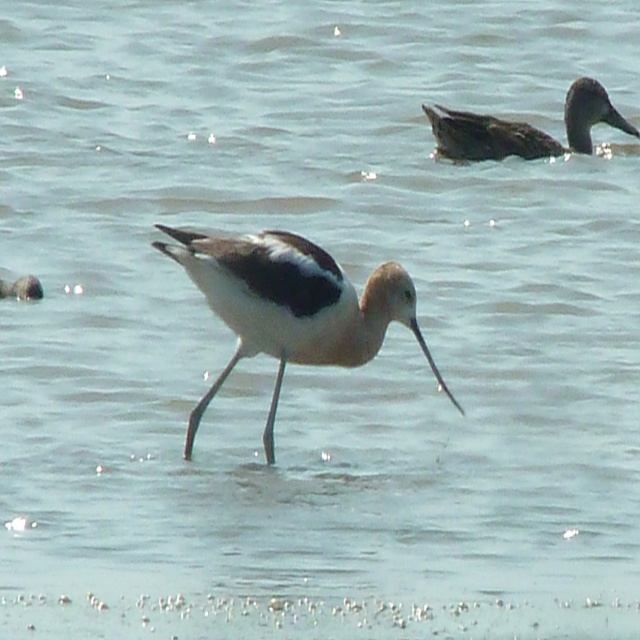Duck: (421, 76, 640, 167)
